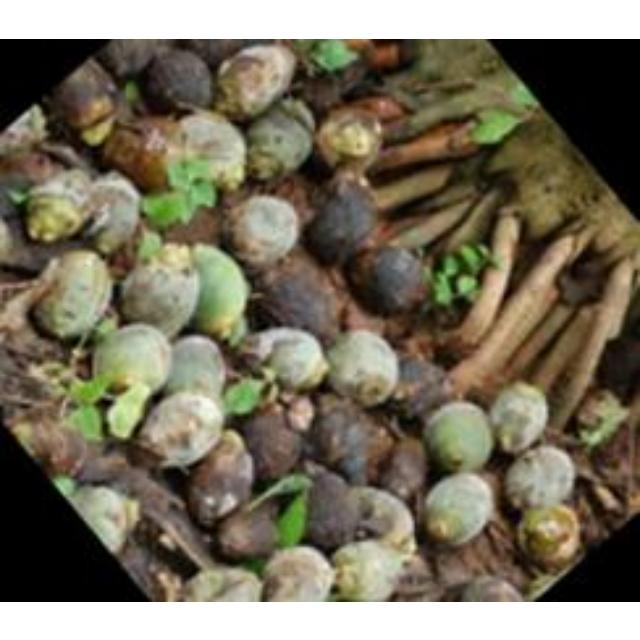damaged: (502, 296, 586, 400), (118, 247, 202, 335), (32, 248, 112, 338), (138, 390, 225, 468), (254, 262, 340, 340), (304, 177, 378, 265), (184, 432, 254, 524), (102, 116, 182, 192), (92, 322, 174, 396), (187, 243, 250, 339), (222, 192, 300, 268), (324, 328, 401, 404), (348, 242, 427, 316), (171, 113, 247, 189), (306, 404, 378, 484), (244, 326, 328, 392), (421, 472, 495, 546), (421, 400, 495, 474), (508, 174, 588, 242), (372, 120, 476, 172), (244, 104, 314, 180), (24, 167, 94, 243), (434, 184, 506, 256), (50, 58, 120, 132), (240, 405, 306, 483), (140, 47, 214, 115), (14, 414, 88, 482), (142, 162, 220, 226), (330, 538, 410, 600), (315, 104, 383, 176), (80, 173, 140, 254), (302, 468, 360, 550), (115, 532, 183, 600), (373, 160, 465, 210), (2, 258, 62, 334), (506, 445, 574, 511), (431, 242, 497, 310), (347, 487, 415, 553), (70, 484, 134, 554), (388, 352, 452, 421), (165, 333, 229, 401), (489, 381, 549, 453), (260, 546, 334, 602), (216, 499, 282, 561), (518, 503, 578, 569), (108, 462, 178, 518), (1, 233, 83, 277), (431, 541, 505, 587), (572, 388, 628, 448), (376, 438, 428, 502), (558, 250, 612, 308), (596, 328, 640, 398), (584, 222, 638, 278), (571, 484, 617, 548), (187, 564, 263, 602), (98, 39, 166, 80), (106, 381, 154, 439), (264, 177, 316, 226), (1, 104, 48, 158), (0, 148, 66, 186), (180, 39, 260, 70), (36, 138, 96, 176), (338, 294, 387, 338), (73, 448, 129, 486), (469, 108, 523, 144), (222, 377, 270, 417), (0, 178, 30, 240), (306, 38, 358, 72), (345, 95, 405, 124), (400, 75, 476, 97), (64, 402, 104, 443), (65, 374, 112, 408), (278, 96, 316, 134), (332, 59, 370, 96), (150, 241, 193, 273), (125, 438, 165, 472), (362, 39, 404, 71), (391, 40, 433, 72), (286, 393, 318, 432), (10, 415, 40, 455), (1, 208, 20, 262), (504, 80, 538, 110), (344, 38, 374, 52)
